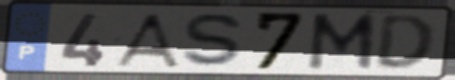4: (56, 10, 108, 69)
7: (251, 10, 308, 73)
A: (109, 11, 184, 69)
D: (371, 13, 438, 74)
M: (304, 11, 380, 74)
S: (178, 11, 249, 71)
